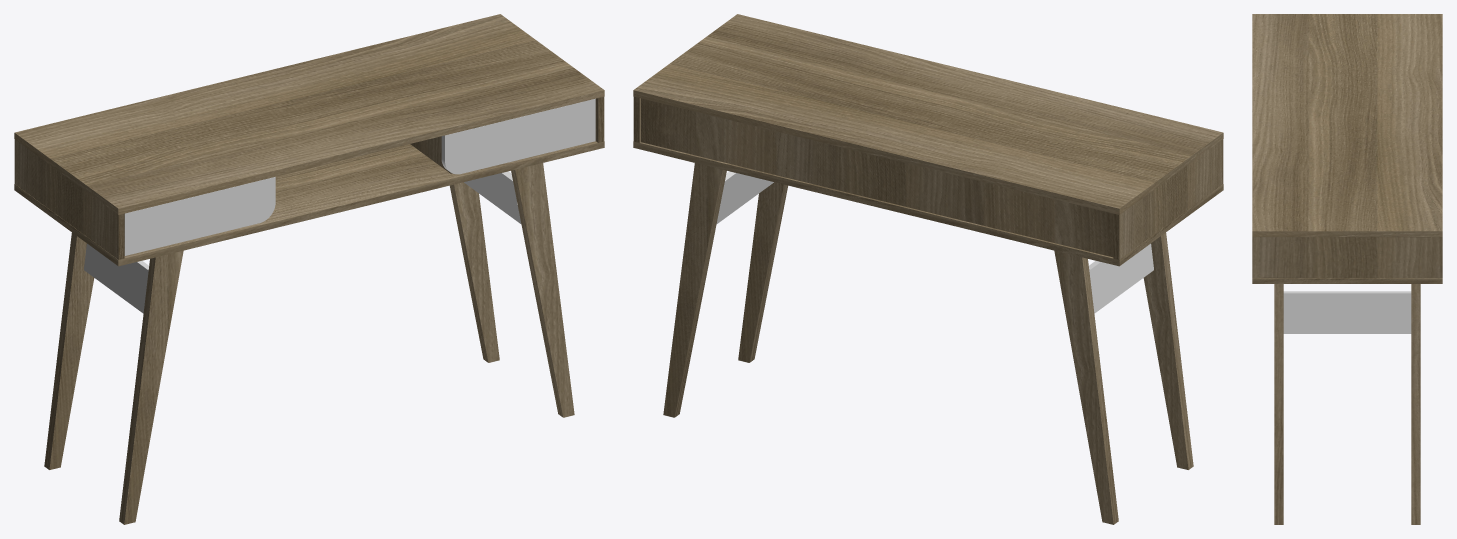
The picture shows the model from 3 angles, left to right: view 1: azimuth 30°, elevation 25°; view 2: azimuth 150°, elevation 25°; view 3: azimuth 270°, elevation 25°; orthographic projection. The views are drawn at different scales.
Parts seen in each view (by area): view 1: A334272-PISOSXXXPI; view 2: A334272-PISOSXXXPI; view 3: A334272-PISOSXXXPI.
Part boxes in pixels (x1=…): A334272-PISOSXXXPI: x1=14, y1=14, x2=604, y2=524; A334272-PISOSXXXPI: x1=633, y1=14, x2=1223, y2=524; A334272-PISOSXXXPI: x1=1252, y1=14, x2=1442, y2=524.
Bounding box in the file's own units: 12 × 7.77 × 4.45.
Materials: 1 (1 with a texture image).
